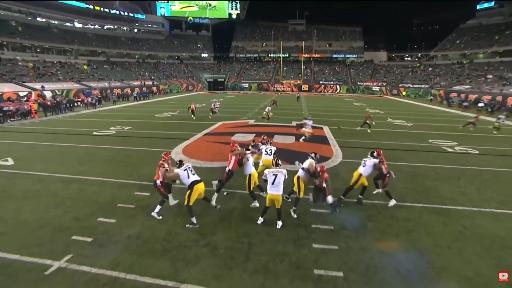Helmet: (369, 150, 382, 158), (309, 153, 319, 162), (368, 151, 378, 159), (177, 159, 185, 169), (273, 158, 281, 167), (162, 152, 170, 161), (318, 166, 326, 174), (231, 142, 238, 150), (261, 135, 267, 143), (376, 150, 382, 157), (251, 139, 256, 144), (268, 139, 272, 145), (244, 148, 250, 151), (306, 116, 311, 119), (367, 112, 371, 115), (475, 115, 479, 118), (215, 101, 219, 104), (273, 97, 276, 100), (191, 103, 195, 105), (214, 101, 217, 103), (304, 117, 307, 119)
Jersey: (263, 169, 287, 194), (175, 164, 200, 186), (358, 158, 378, 177), (154, 161, 170, 182), (298, 159, 314, 179), (227, 152, 240, 170), (243, 156, 255, 174), (260, 146, 276, 159), (378, 157, 389, 175), (315, 173, 328, 187), (251, 143, 261, 154), (303, 120, 313, 129), (495, 115, 505, 123), (365, 114, 373, 121), (473, 115, 479, 121), (265, 107, 271, 113), (211, 103, 216, 109), (190, 105, 195, 110), (272, 99, 277, 103), (215, 103, 219, 108), (297, 94, 300, 97)
Player: (167, 160, 219, 227), (338, 150, 382, 204), (284, 153, 319, 217), (212, 142, 246, 203), (258, 158, 287, 228), (152, 152, 178, 219), (313, 166, 338, 213), (374, 156, 396, 206), (243, 154, 263, 207), (257, 140, 276, 173), (250, 135, 267, 162), (300, 117, 313, 141), (358, 113, 374, 132), (460, 115, 479, 130), (493, 114, 505, 133), (262, 107, 272, 122), (210, 103, 218, 117), (188, 103, 195, 119), (271, 98, 277, 106), (215, 102, 219, 113), (296, 93, 300, 101)
